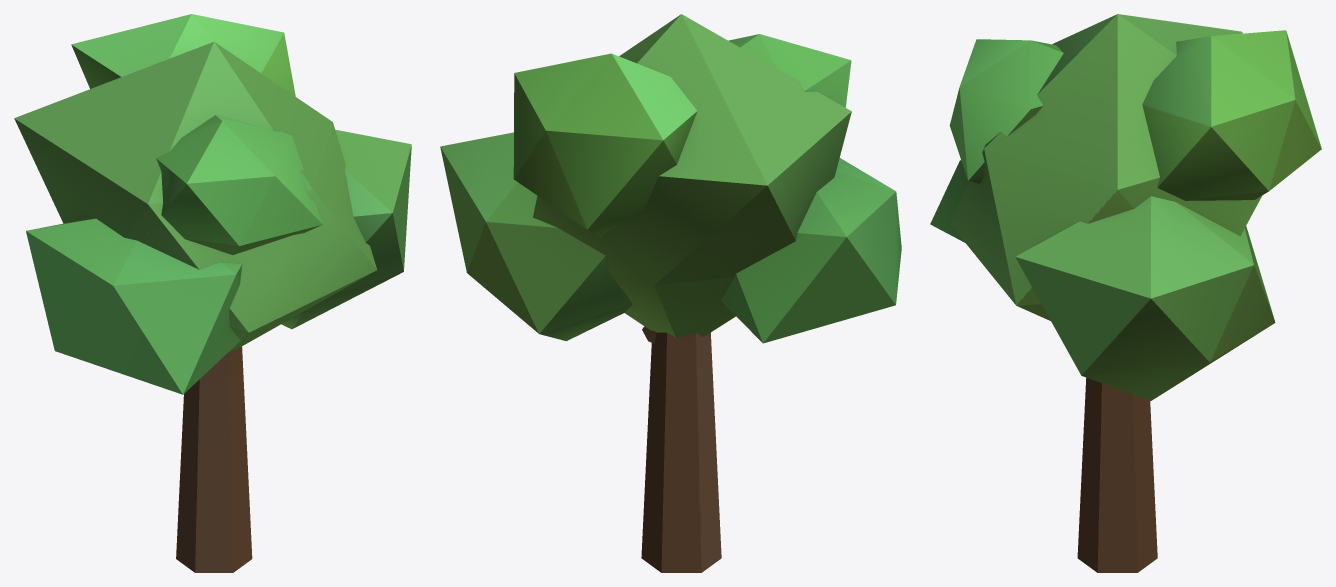
Rendered from scenery_tree_2.fbx.
3 renders of one model, left to right at view 1: azimuth 30°, elevation 25°; view 2: azimuth 150°, elevation 25°; view 3: azimuth 270°, elevation 25°, orthographic. The views are drawn at different scales.
Parts seen in each view (by area): view 1: scenery_tree_2_body; view 2: scenery_tree_2_body; view 3: scenery_tree_2_body.
Part boxes in pixels (x1,y1,x2,y2): scenery_tree_2_body: (14, 14, 411, 572); scenery_tree_2_body: (440, 14, 901, 572); scenery_tree_2_body: (930, 14, 1321, 572).
Bounding box in the file's own units: 1292 × 1617 × 1055.
Materials: 1 (1 with a texture image).
